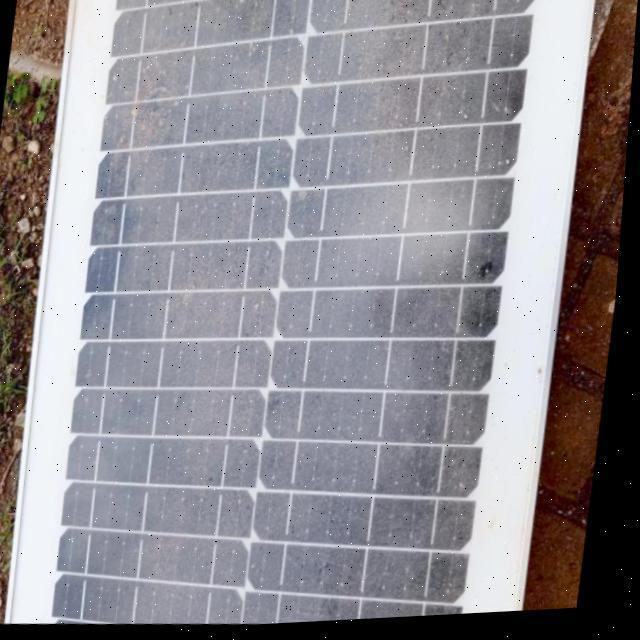Surface Contaminant: (32, 0, 543, 627)
